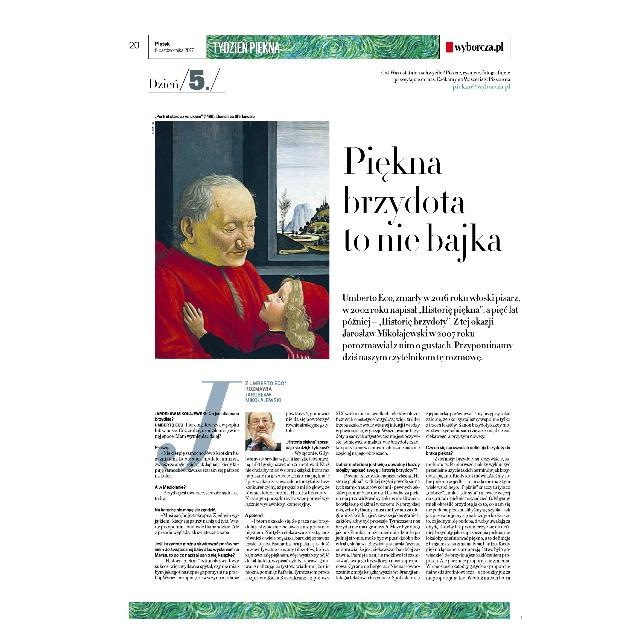article: (146, 112, 512, 584)
